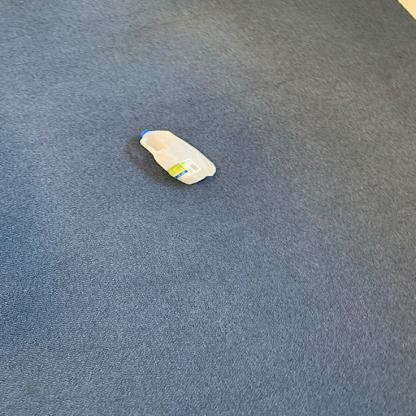trash: (138, 128, 218, 190)
